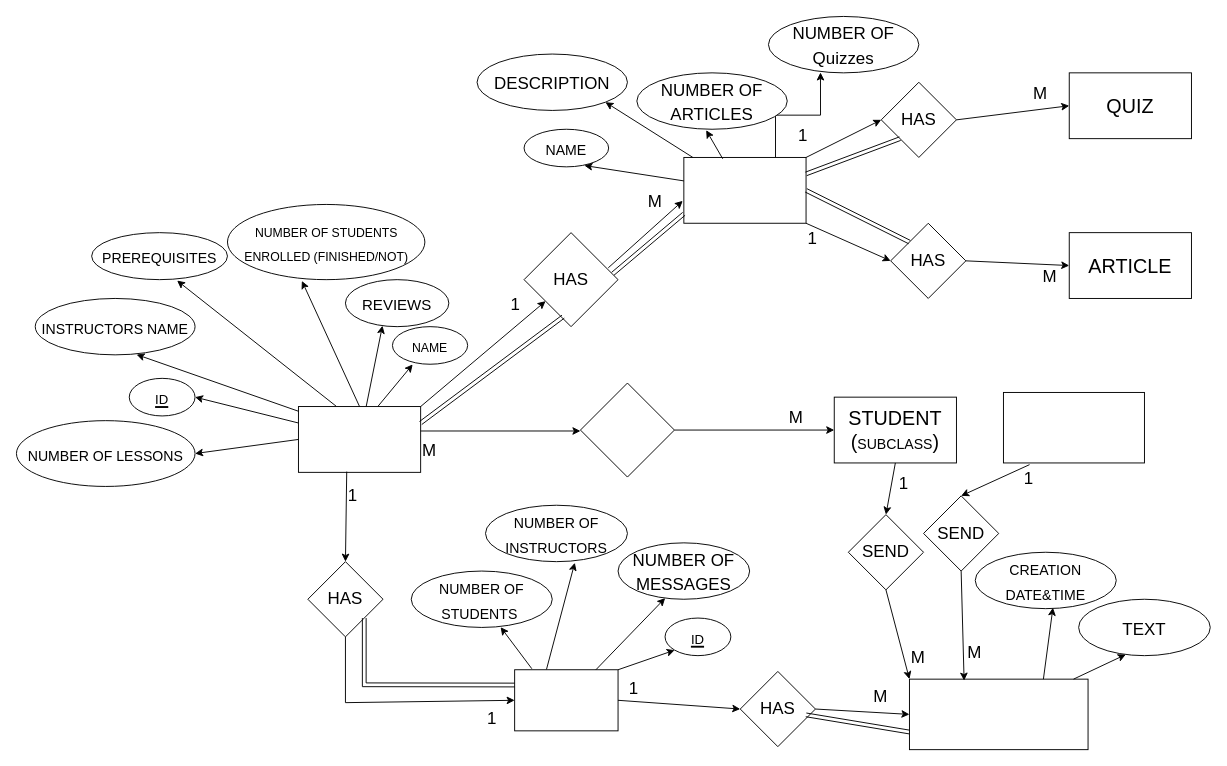
The diagram is 1227 pixels wide and 766 high, and some of its shapes have lost their labels. The centre of each missing label's shape, as x and y in pixels:
"CONVERSATION MESSAGE ( WEAK ENTITY )" goes at pixel 998 714.
"COURSE" goes at pixel 359 439.
"ENROLL" goes at pixel 627 429.
"GROUP CHAT" goes at pixel 566 700.
"INSTRUCTOR ( SUBCLASS )" goes at pixel 1073 427.
"LESSON ( WEAK ENTITY )" goes at pixel 744 190.
